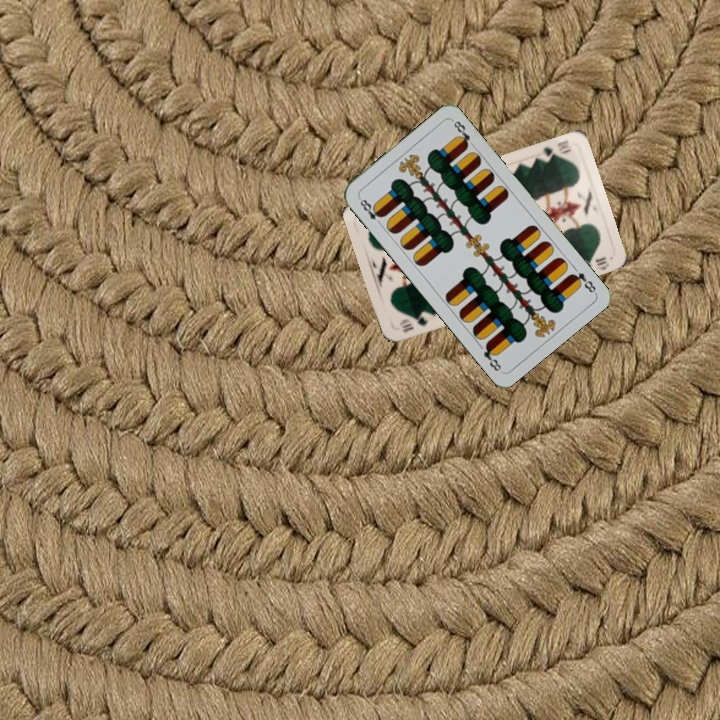E8: (355, 193, 386, 228), (566, 268, 599, 296)
G10: (536, 136, 575, 164), (395, 310, 431, 336)
